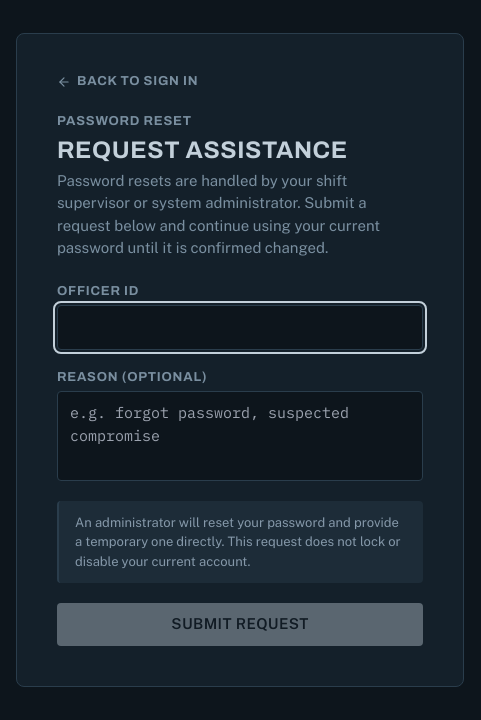
it: ForgotPasswordScreen › shows an error and stays on the form if the request fails
Type "OFF-2291" into the field labelled "Officer ID" at (240, 327), box [57,305,423,350]
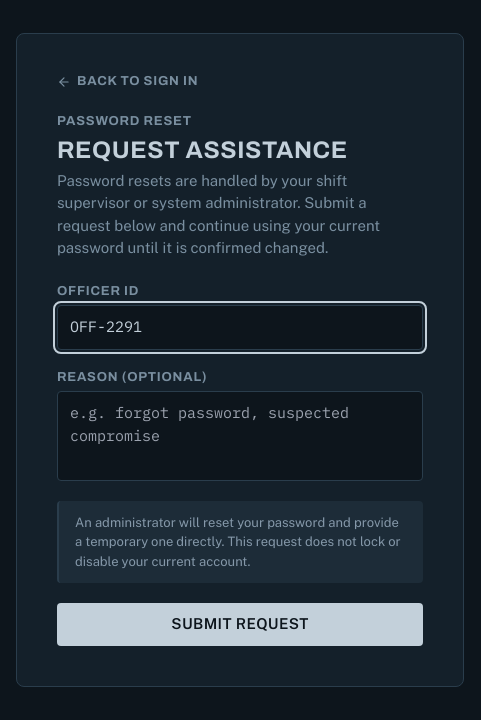
Click the button "Submit request" at (240, 624), box [57,603,423,646]
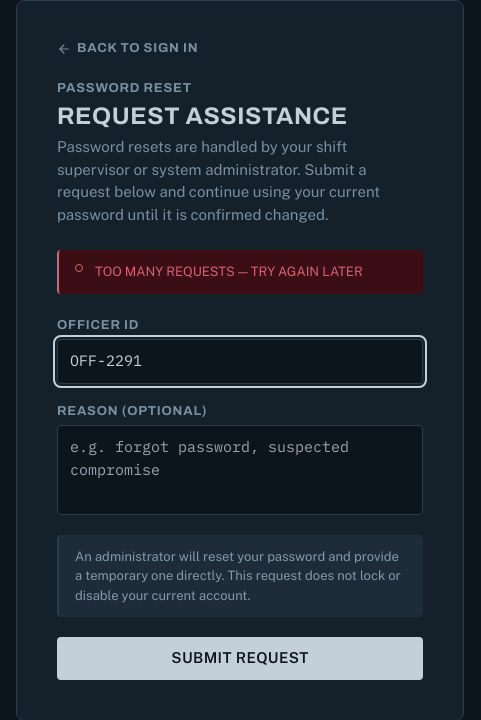
Now the message shows "TOO MANY REQUESTS", box [95,264,363,279]
